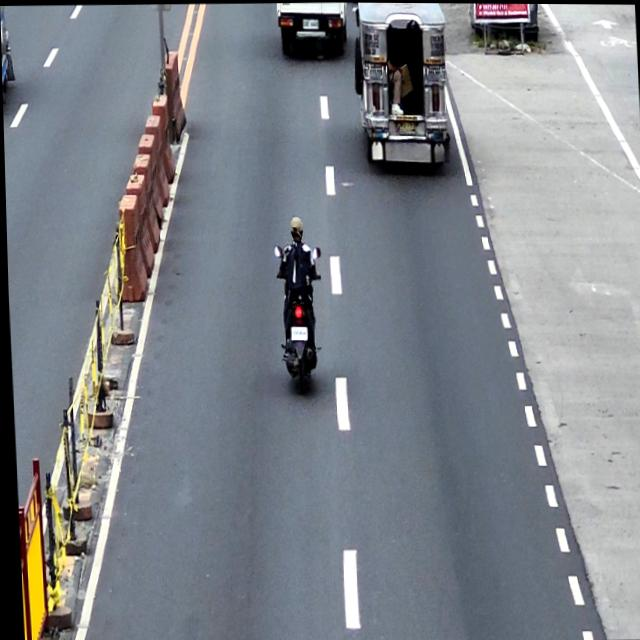Car: (276, 2, 348, 58)
Jeep: (351, 2, 452, 175)
License-Plate: (393, 119, 416, 133), (288, 325, 306, 342), (301, 18, 319, 29)
Motorcycle: (272, 241, 326, 392)
